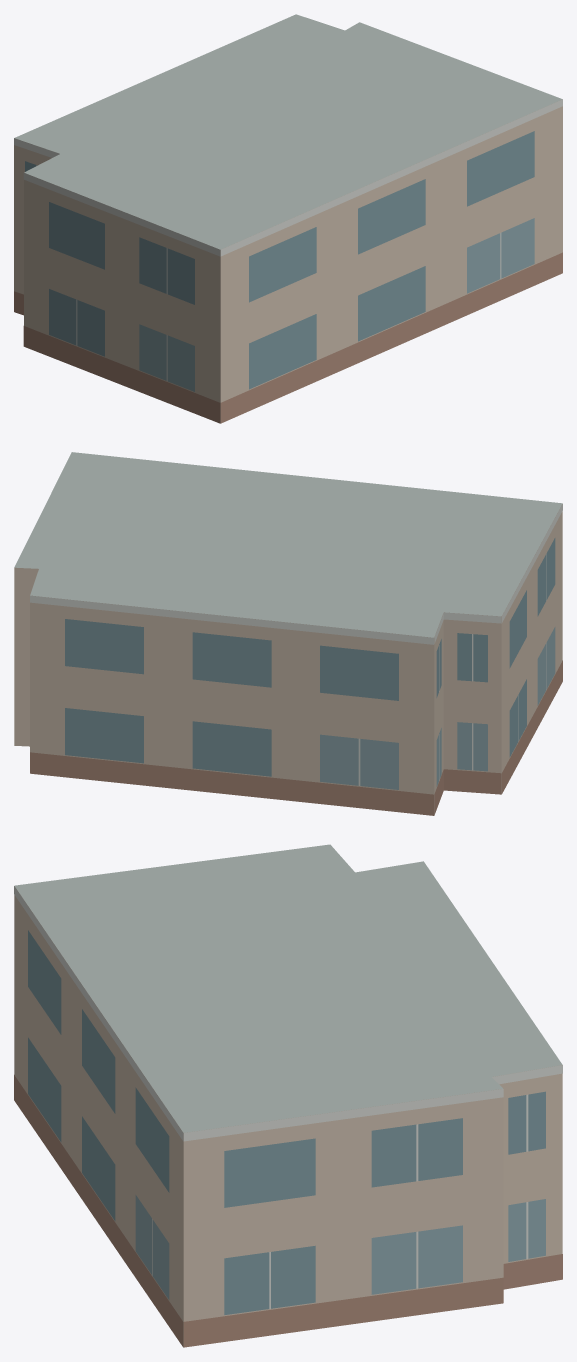
File: survey-upis-33014796.glb
The picture shows the model from 3 angles, top to bottom: view 1: azimuth 30°, elevation 25°; view 2: azimuth 150°, elevation 25°; view 3: azimuth 270°, elevation 25°; orthographic projection. The views are drawn at different scales.
Parts seen in each view (by area): view 1: survey-upis-33014796.tmp; view 2: survey-upis-33014796.tmp; view 3: survey-upis-33014796.tmp.
Part boxes in pixels (x1,y1,x2,y2): survey-upis-33014796.tmp: (14,14,562,423); survey-upis-33014796.tmp: (14,452,562,815); survey-upis-33014796.tmp: (14,844,562,1347).
Bounding box in the file's own units: 17.6 × 6.1 × 14.15.
